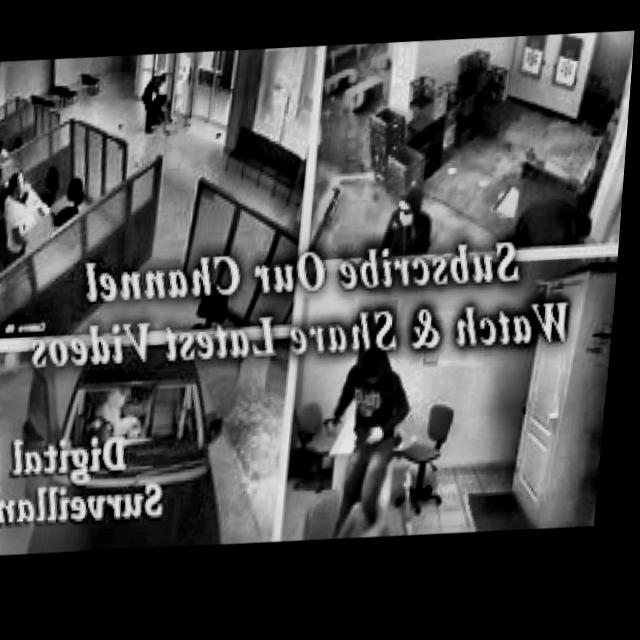burglary: (378, 181, 445, 263)
